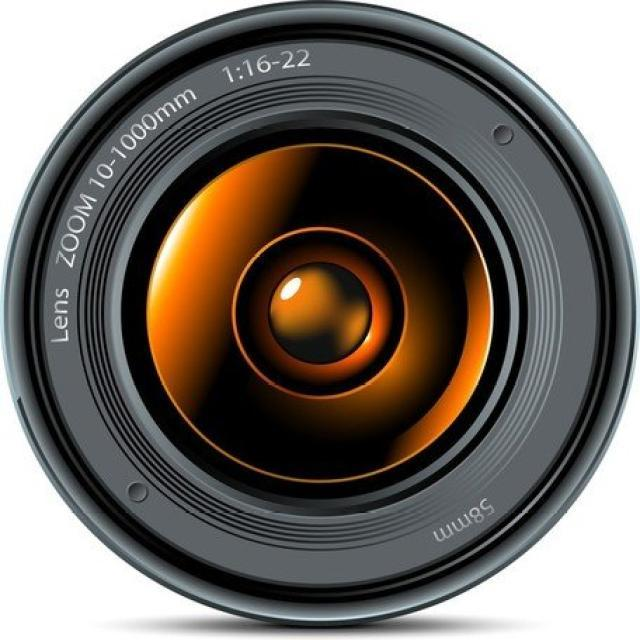hidden camera: (38, 33, 613, 610)
